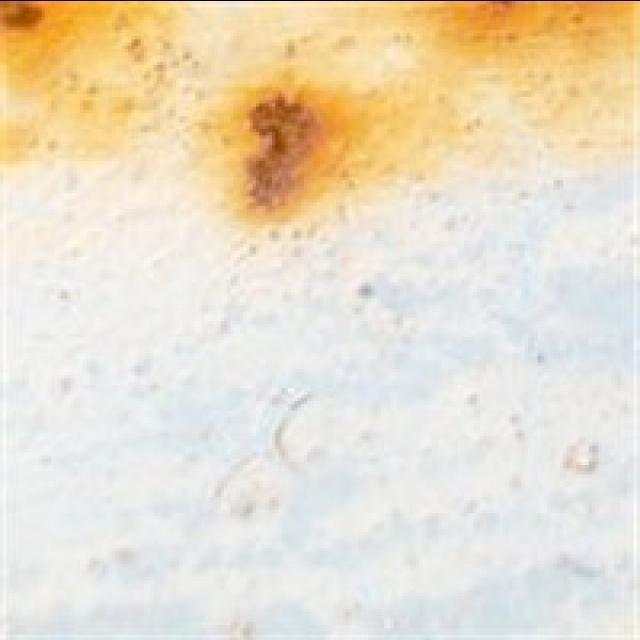Corrosion: (0, 0, 639, 229), (199, 67, 359, 223), (240, 88, 325, 209)
